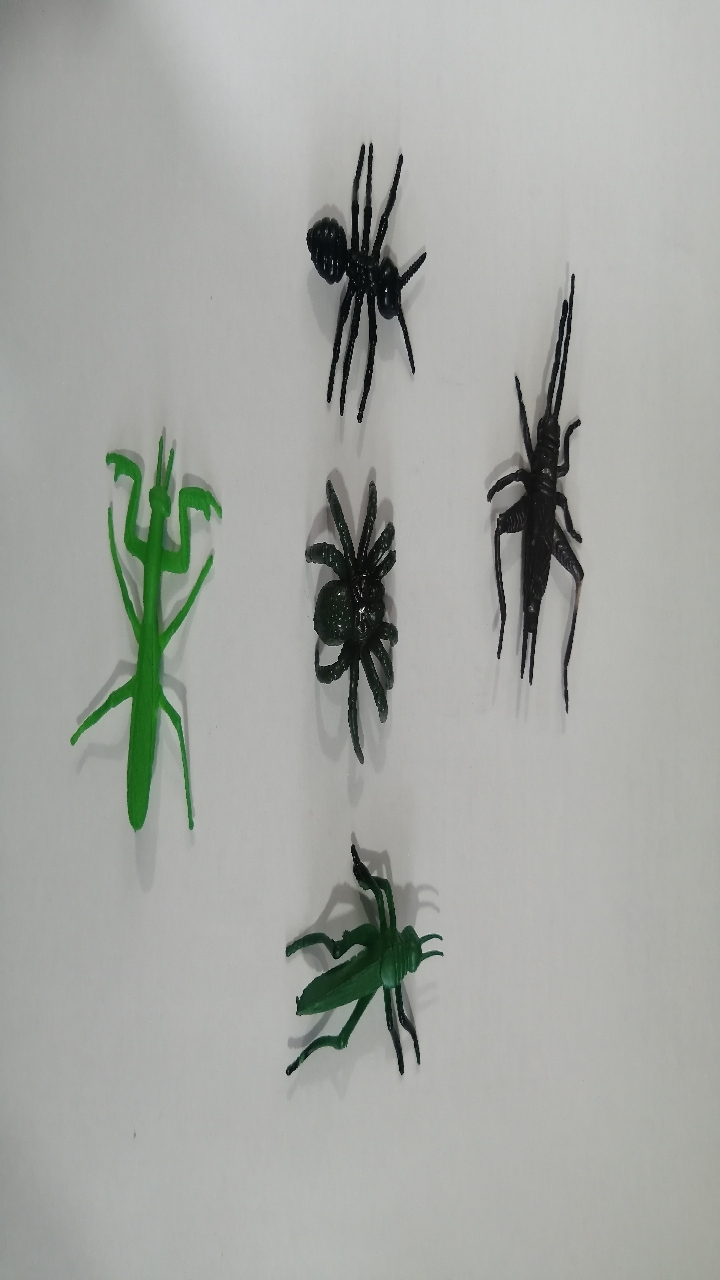intruso: (66, 395, 263, 875), (438, 259, 634, 734), (244, 815, 461, 1122), (266, 119, 449, 454), (280, 443, 437, 769)
